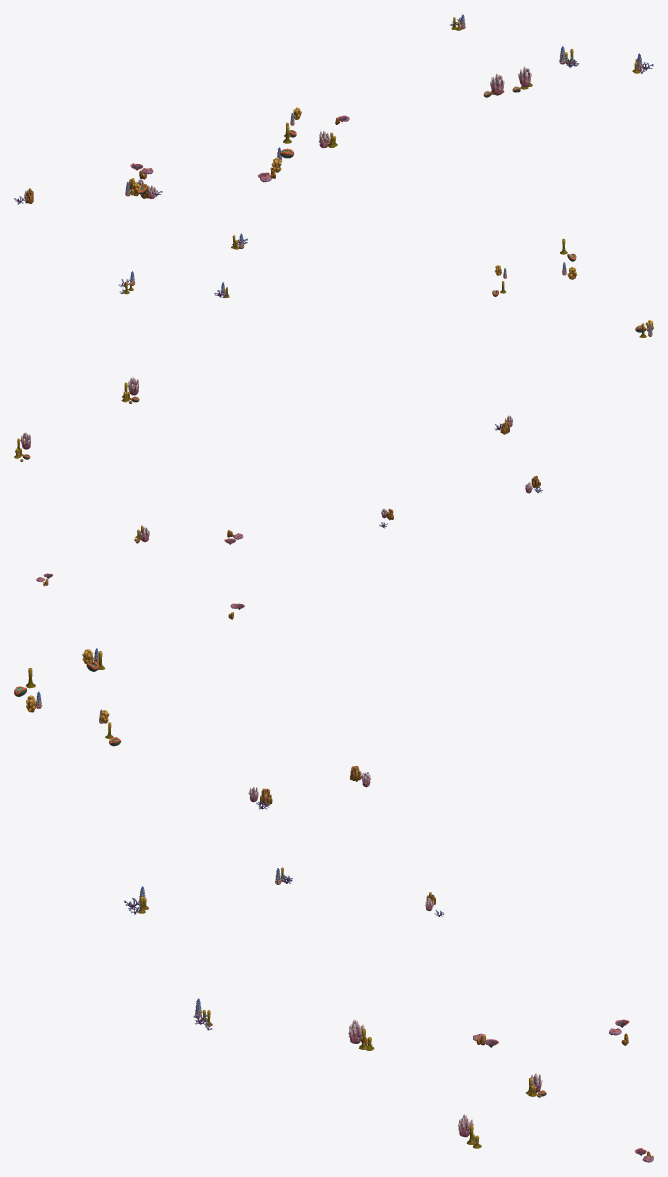
Rendered from economy-webp.glb.
3 views of the same model, one above another, from view 1: azimuth 30°, elevation 25°; view 2: azimuth 150°, elevation 25°; view 3: azimuth 270°, elevation 25° (orthographic). The views are drawn at different scales.
Parts seen in each view (by area): view 1: coral_full_7, coral_full_0, coral_full_2, coral_full_4; view 2: no part large enough to name; view 3: coral_full_4, coral_full_0.
Boxes of the visible parts, bbox=[...] form: coral_full_7: bbox=[318, 66, 532, 148]; coral_full_0: bbox=[125, 107, 301, 196]; coral_full_2: bbox=[451, 14, 642, 73]; coral_full_4: bbox=[14, 178, 162, 204]; coral_full_4: bbox=[248, 766, 444, 916]; coral_full_0: bbox=[25, 648, 113, 738].
Size of the model in its own units: 89.03 by 41.53 by 76.71.
Materials: 11 (11 with a texture image).
